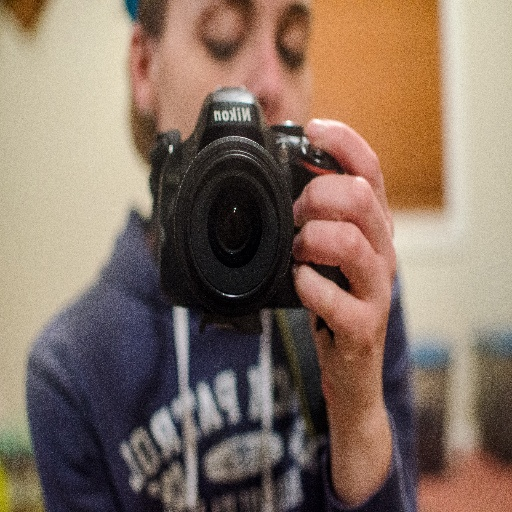hand: (288, 120, 408, 495)
